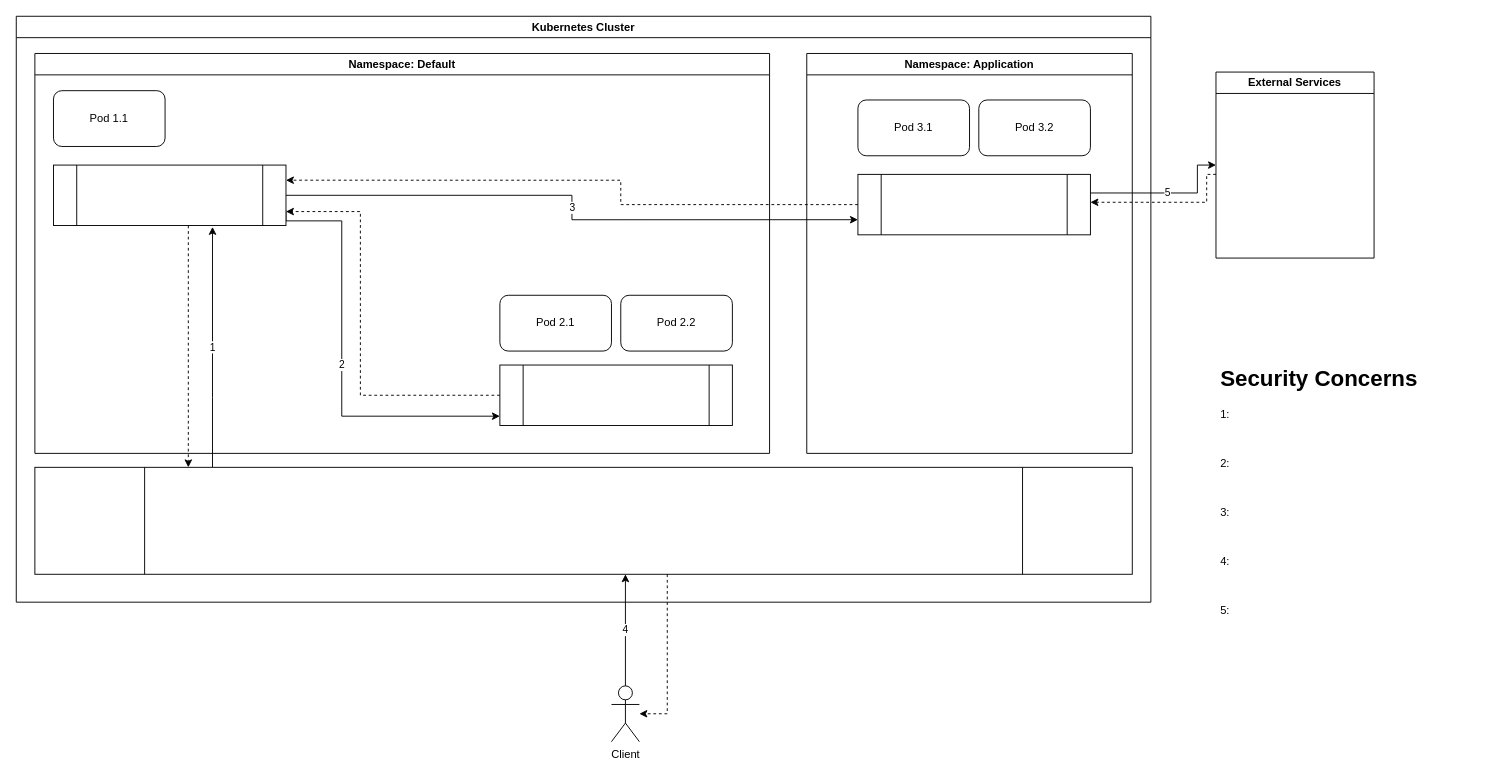
This 1502x777 diagram has some shape labels left out. The shapes that lost their labels are listed below. From the top down, each one's centre as x and y in pixels, then its label:
[169,195]: Service 1
[973,204]: Service 3
[615,394]: Service 2
[583,520]: Ingress
